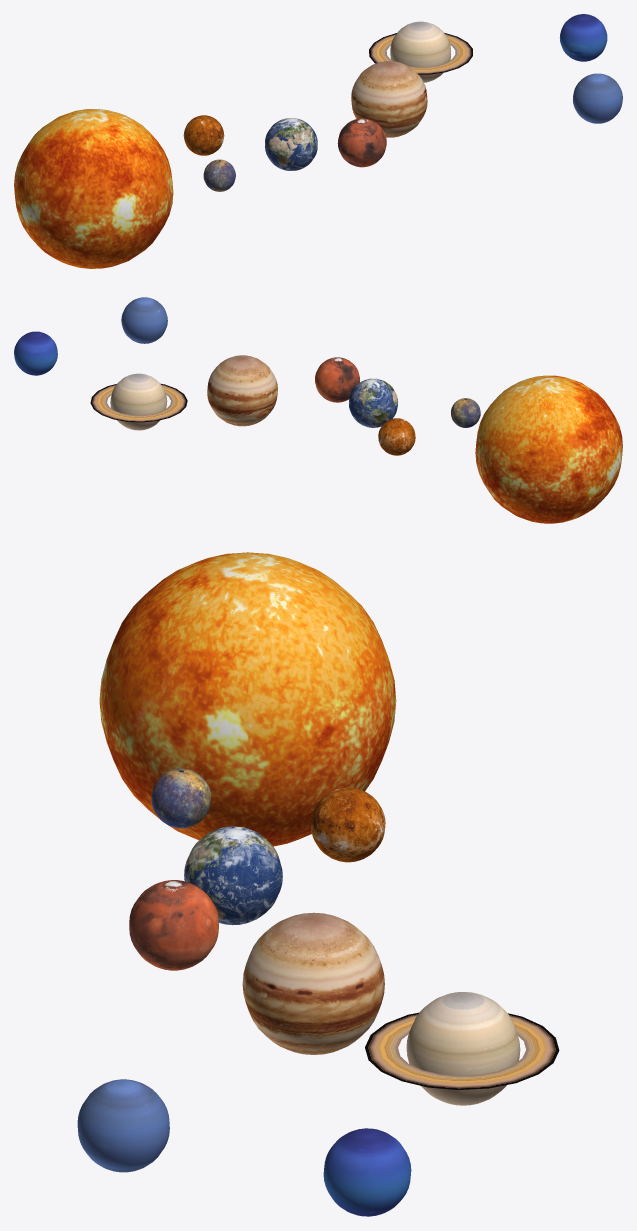
Rendered from SolarSystem.glb.
3 renders of one model, top to bottom at view 1: azimuth 30°, elevation 25°; view 2: azimuth 150°, elevation 25°; view 3: azimuth 270°, elevation 25°, orthographic. The views are drawn at different scales.
Visible parts, largest first — view 1: Sun, Jupiter, Saturn, Earth, Uranus, Mars, Neptune, Venus, Mercury; view 2: Sun, Jupiter, Saturn, Earth, Uranus, Mars, Neptune, Venus, Mercury; view 3: Sun, Jupiter, Saturn, Earth, Uranus, Mars, Neptune, Venus, Mercury.
Boxes of the visible parts, box(x1,y1,x2,y2) form: Sun: box(14, 109, 173, 268); Jupiter: box(351, 61, 427, 137); Saturn: box(369, 21, 472, 82); Earth: box(265, 118, 317, 170); Uranus: box(573, 73, 622, 123); Mars: box(337, 118, 386, 167); Neptune: box(560, 14, 607, 61); Venus: box(183, 115, 224, 155); Mercury: box(203, 159, 235, 191); Sun: box(475, 375, 622, 523); Jupiter: box(207, 355, 277, 426); Saturn: box(90, 373, 187, 430); Earth: box(349, 378, 397, 427); Uranus: box(121, 297, 167, 343); Mars: box(315, 357, 359, 402); Neptune: box(14, 331, 57, 375); Venus: box(378, 418, 415, 455); Mercury: box(451, 398, 480, 427); Sun: box(99, 552, 396, 846); Jupiter: box(242, 912, 384, 1054); Saturn: box(365, 992, 559, 1105); Earth: box(184, 826, 282, 925); Uranus: box(77, 1079, 169, 1172); Mars: box(129, 880, 218, 970); Neptune: box(323, 1128, 411, 1216); Venus: box(311, 787, 385, 862); Mercury: box(151, 768, 211, 828).
Size of the model in its own units: 22.04 by 5 by 8.12.
Materials: 10 (10 with a texture image).
